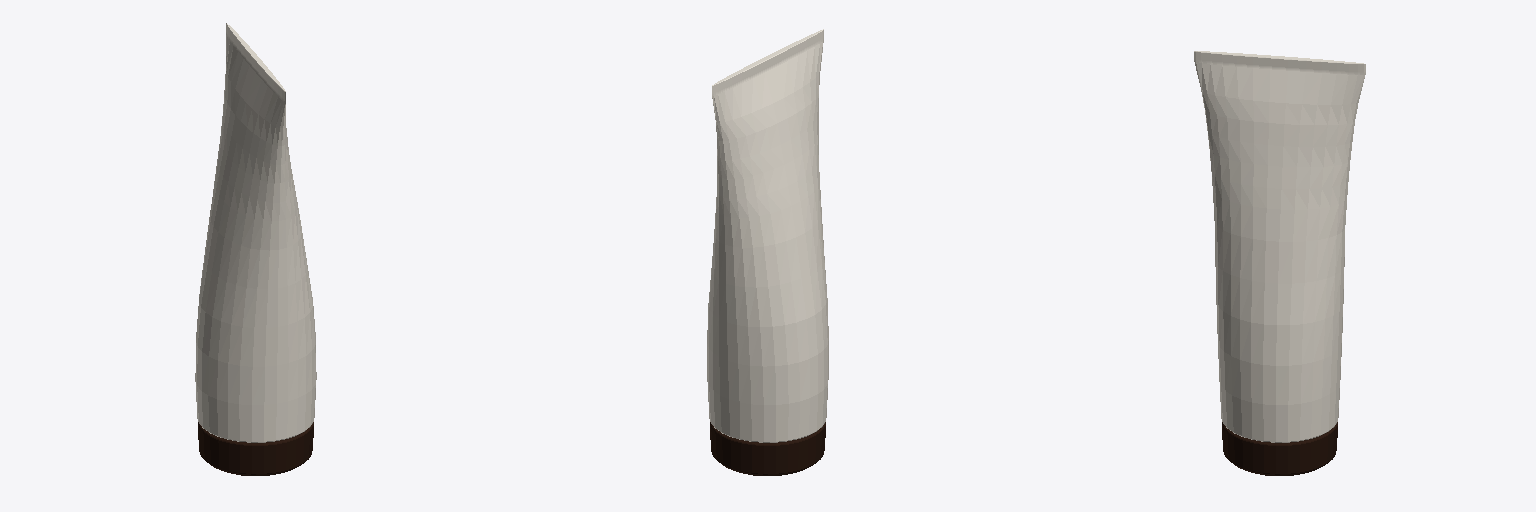
Rendered from crema.obj.
3 views of the same model, side by side, from view 1: azimuth 30°, elevation 25°; view 2: azimuth 150°, elevation 25°; view 3: azimuth 270°, elevation 25° (orthographic).
Parts seen in each view (by area): view 1: Mesh2 Cylinder48_1 skpCC29_1 Model, Mesh1 Cylinder48_1 skpCC29_1 Model; view 2: Mesh2 Cylinder48_1 skpCC29_1 Model, Mesh1 Cylinder48_1 skpCC29_1 Model; view 3: Mesh2 Cylinder48_1 skpCC29_1 Model, Mesh1 Cylinder48_1 skpCC29_1 Model.
Boxes of the visible parts, <box> form: Mesh2 Cylinder48_1 skpCC29_1 Model: <box>195,23,316,442</box>; Mesh1 Cylinder48_1 skpCC29_1 Model: <box>198,422,313,475</box>; Mesh2 Cylinder48_1 skpCC29_1 Model: <box>707,29,828,442</box>; Mesh1 Cylinder48_1 skpCC29_1 Model: <box>710,422,825,475</box>; Mesh2 Cylinder48_1 skpCC29_1 Model: <box>1194,51,1365,442</box>; Mesh1 Cylinder48_1 skpCC29_1 Model: <box>1222,422,1337,475</box>.
Bounding box in the file's own units: 1.19 × 4.33 × 1.69.